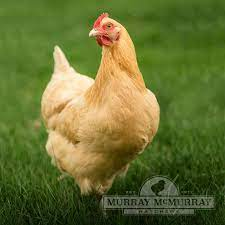buff: (44, 4, 155, 193)
